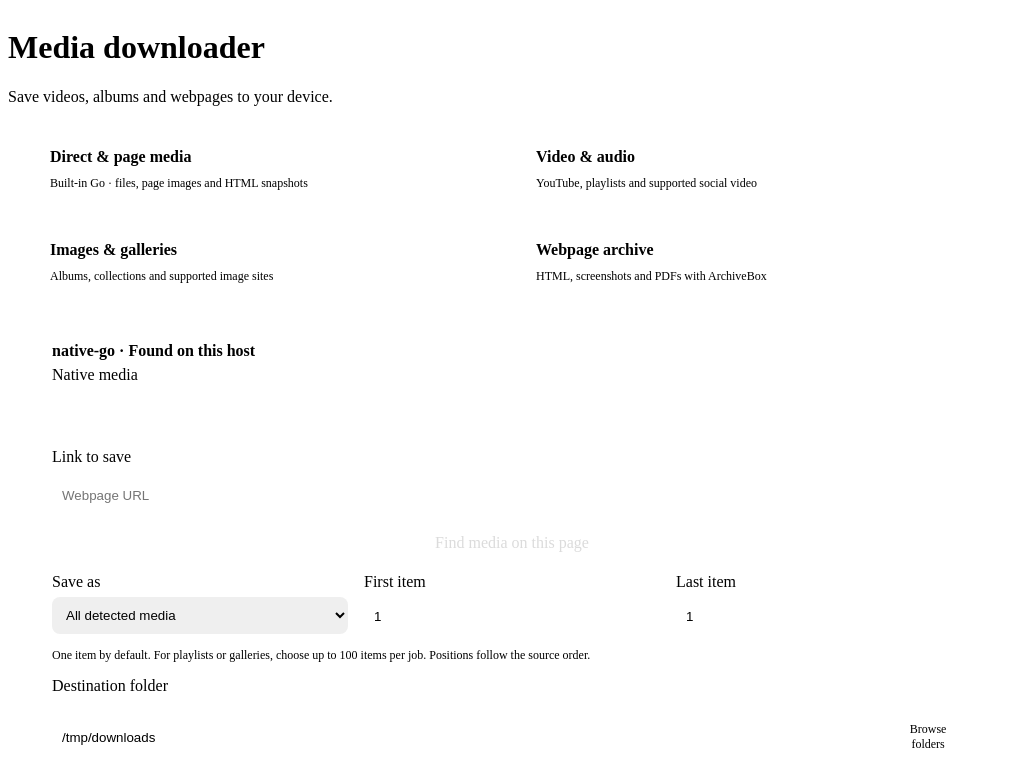
it: Media downloader › aborts inspection on engine selection and suppresses its late failure
Check: the field showing "/tmp/downloads" is shown, box top-left (52, 720), bottom-right (872, 755)
In the field labelled "Link to save": (522, 496) top-left (52, 478), bottom-right (992, 513), type "https://example.org/page"
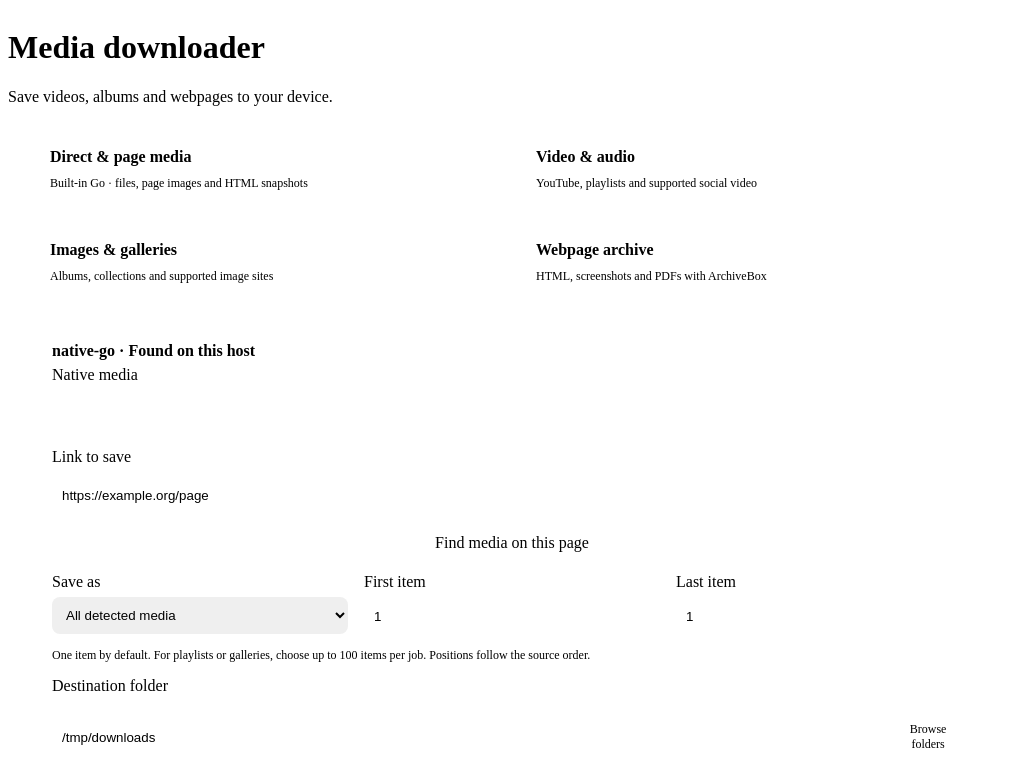
Click the button "Find media on this page": (512, 543) top-left (52, 525), bottom-right (972, 561)
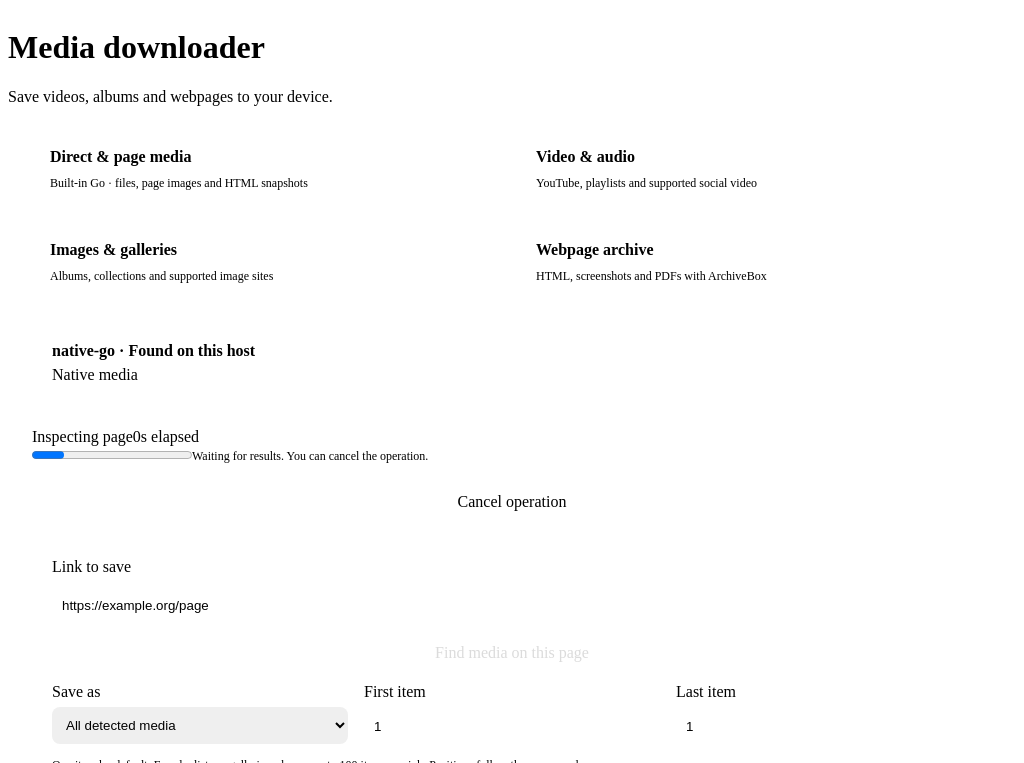
Click the button "Video & audio YouTube, playlists and supported social video": (585, 156) top-left (518, 130), bottom-right (992, 211)
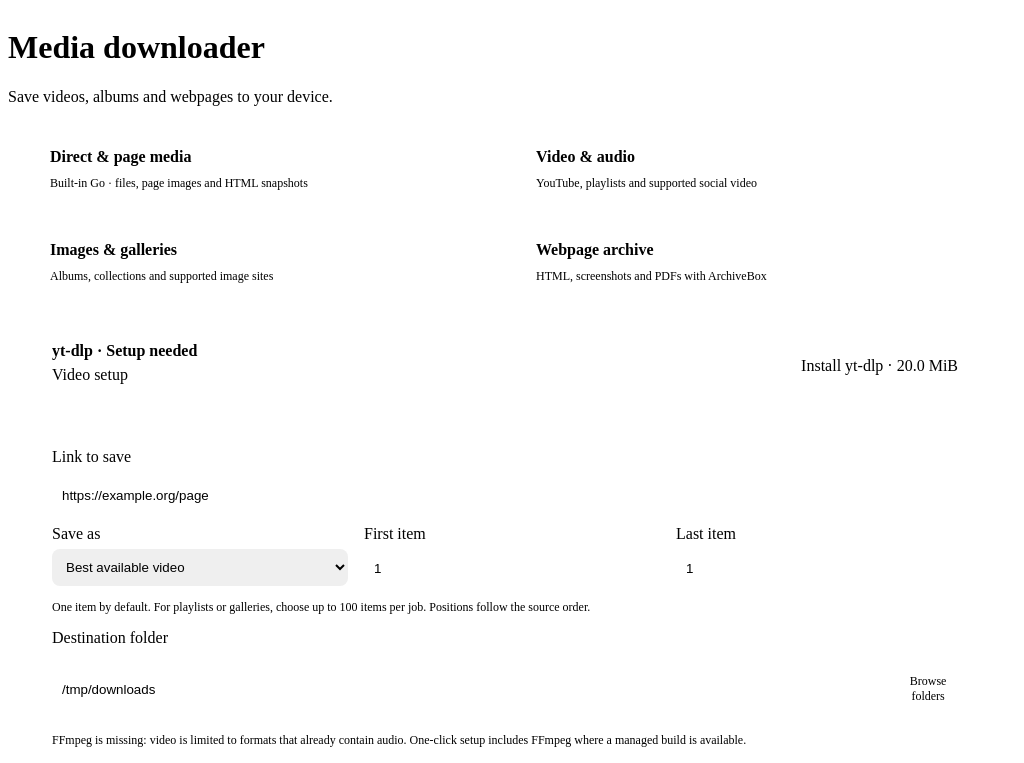
Check: the button "Install yt-dlp · 20.0 MiB" is enabled, box top-left (787, 348), bottom-right (972, 384)
Check: the button "Cancel operation" is gone
